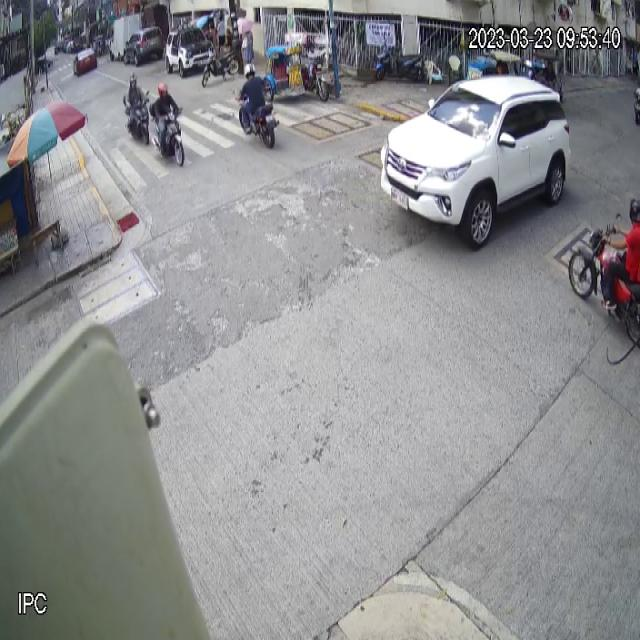Car: (380, 74, 572, 248)
Motorcycle: (568, 210, 640, 342), (232, 88, 280, 149), (150, 101, 186, 167), (122, 89, 150, 146)
